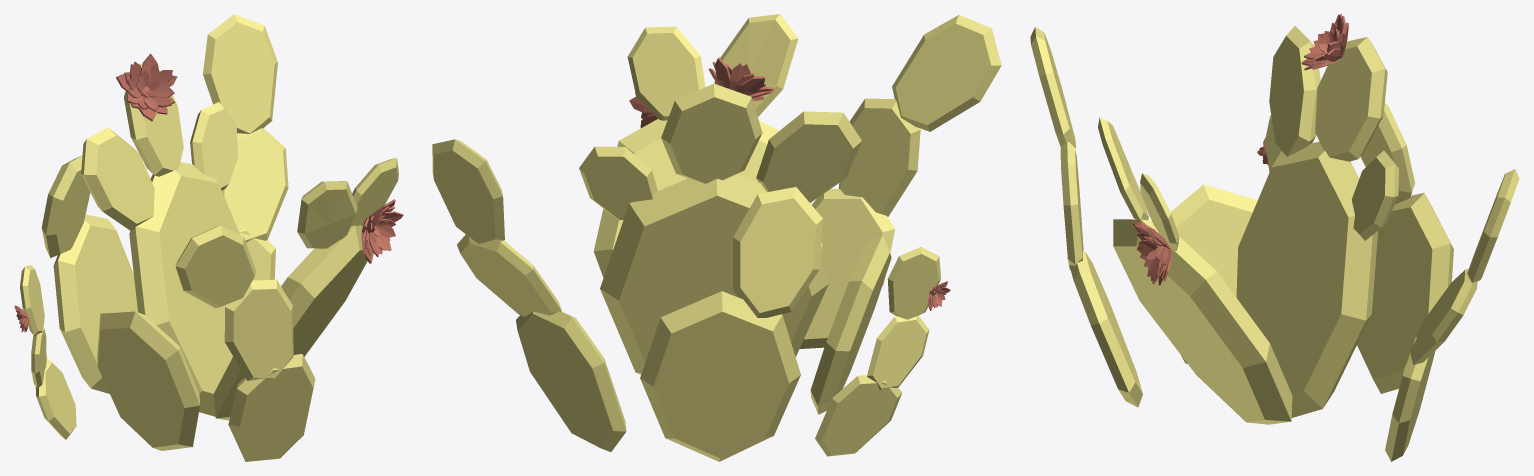
File: Cactus_8.fbx
3 views of the same model, side by side, from view 1: azimuth 30°, elevation 25°; view 2: azimuth 150°, elevation 25°; view 3: azimuth 270°, elevation 25° (orthographic). The views are drawn at different scales.
Visible parts, largest first — view 1: Cactus_8; view 2: Cactus_8; view 3: Cactus_8.
Part boxes in pixels (x1,y1,x2,y2): Cactus_8: (14, 14, 403, 461); Cactus_8: (432, 14, 1001, 461); Cactus_8: (1030, 14, 1519, 461).
Size of the model in its own units: 262 by 283 by 247.
